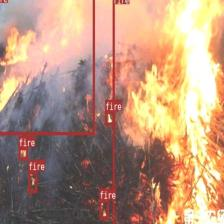fire: (112, 0, 224, 224), (0, 0, 94, 134), (28, 171, 37, 192), (99, 199, 108, 219), (104, 110, 114, 125), (18, 146, 28, 160)
